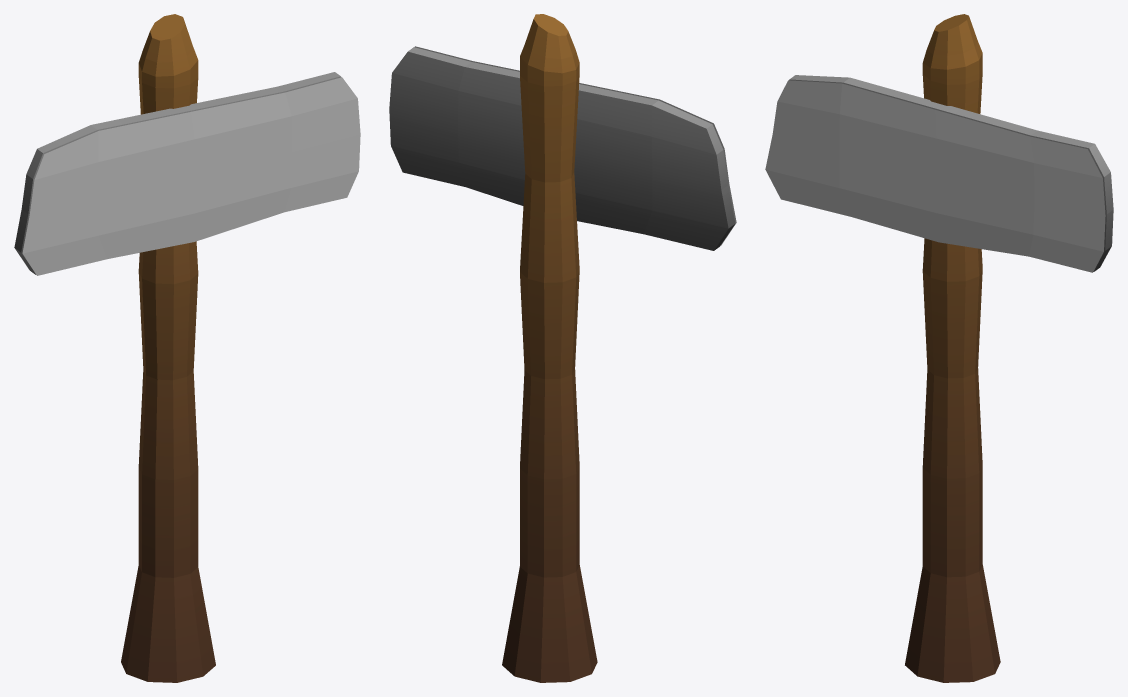
Rendered from CartelTutorial_3_elementosDecorativos_T.fbx.
3 views of the same model, side by side, from view 1: azimuth 30°, elevation 25°; view 2: azimuth 150°, elevation 25°; view 3: azimuth 330°, elevation 25° (orthographic).
Visible parts, largest first — view 1: Palmera.001, Palmera; view 2: Palmera, Palmera.001; view 3: Palmera.001, Palmera.
Part boxes in pixels (x1,y1,x2,y2): Palmera.001: (22, 77, 360, 275); Palmera: (14, 14, 341, 682); Palmera: (389, 14, 735, 682); Palmera.001: (414, 46, 736, 245); Palmera.001: (765, 80, 1105, 272); Palmera: (789, 14, 1113, 682).
Size of the model in its own units: 56.64 by 103 by 12.71.
